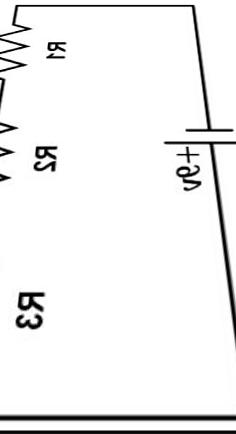Battery: (146, 92, 229, 162)
